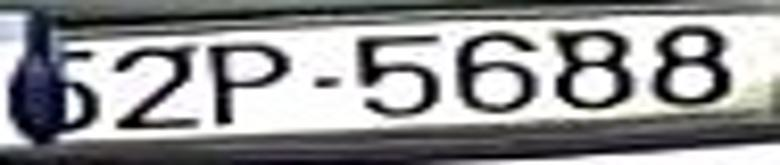-: (312, 75, 342, 90)
2: (115, 43, 198, 141)
5: (354, 32, 437, 117), (50, 42, 104, 133)
6: (452, 28, 539, 118)
8: (650, 18, 735, 106), (553, 27, 636, 112)
P: (208, 38, 291, 130)
